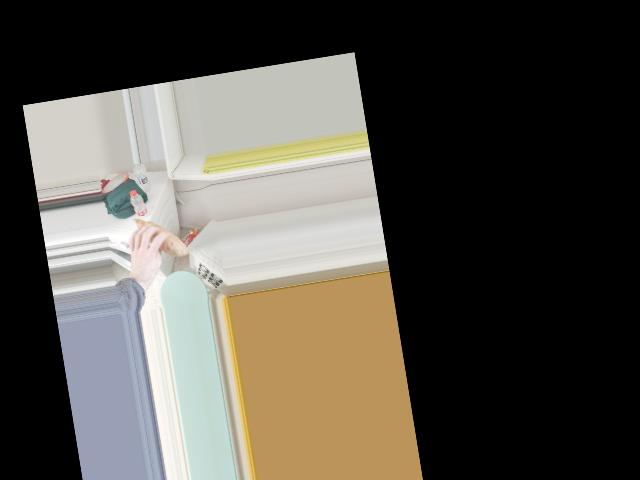sweet_potato: (130, 213, 185, 262)
